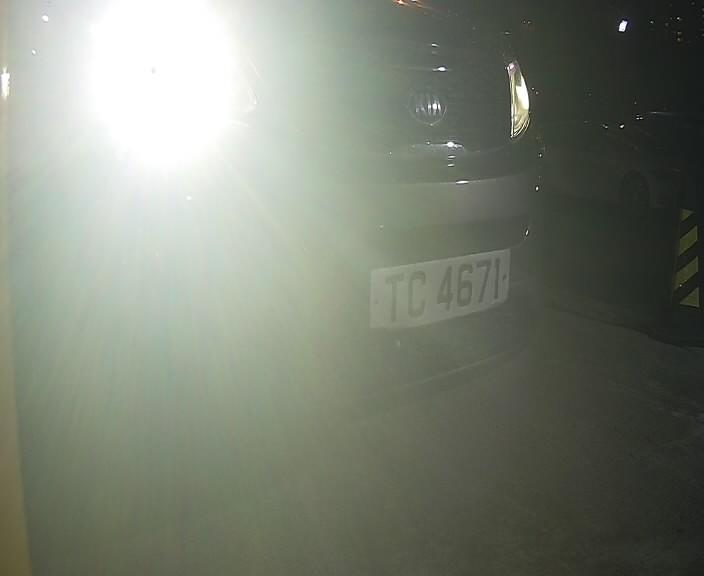Car: (29, 24, 635, 494)
License Plate: (365, 232, 513, 350)
